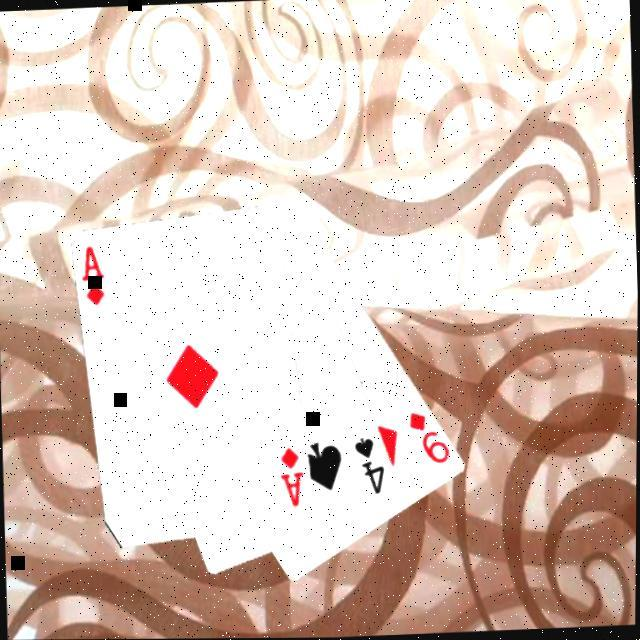4S: (350, 436, 388, 500)
9D: (404, 410, 453, 470)
AD: (274, 446, 306, 512), (77, 245, 107, 310)
